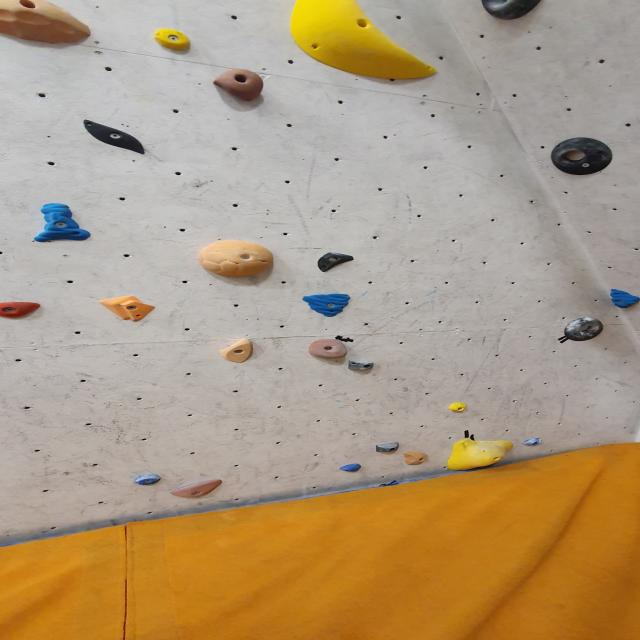Crimp: (302, 294, 353, 316), (169, 481, 225, 500), (0, 302, 45, 321), (610, 289, 640, 309), (132, 475, 162, 487), (340, 463, 364, 472), (523, 439, 543, 448)
Jug: (211, 72, 266, 105), (308, 340, 351, 360)
Pinch: (33, 202, 90, 244), (220, 340, 257, 364), (348, 359, 378, 372), (374, 442, 402, 454)
Pocket: (550, 140, 614, 178), (476, 0, 547, 22)
Sloper: (288, 0, 442, 84), (0, 0, 91, 46), (199, 240, 279, 280), (79, 121, 150, 155), (444, 440, 515, 473), (97, 296, 157, 324), (152, 28, 194, 54), (317, 251, 358, 270), (403, 451, 429, 466), (445, 401, 469, 413)
